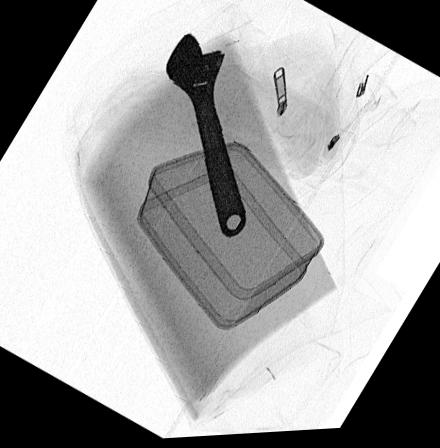Wrench: (162, 36, 247, 239)
